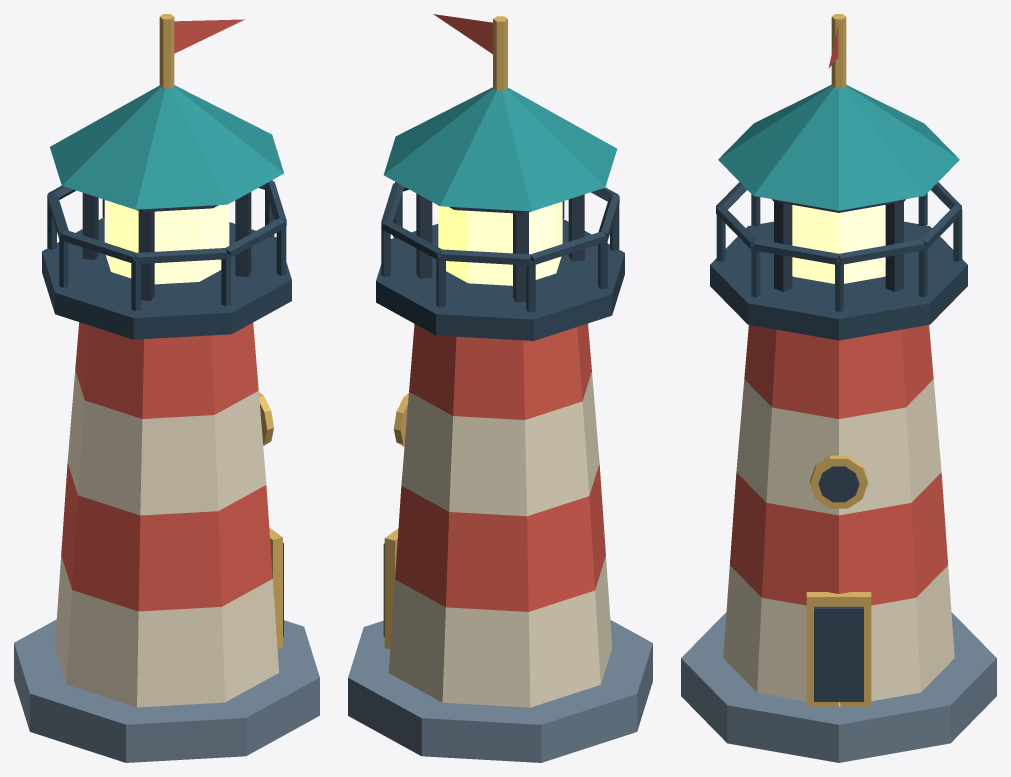
Rendered from lighthouse.glb.
The picture shows the model from 3 angles, left to right: view 1: azimuth 30°, elevation 25°; view 2: azimuth 150°, elevation 25°; view 3: azimuth 270°, elevation 25°; orthographic projection.
Visible parts, largest first — view 1: tower_white, tower_red, foundation, gallery, roof, lamp_glow, lamp_frame, door_trim; view 2: tower_white, tower_red, foundation, gallery, roof, lamp_glow, lamp_frame, door_trim; view 3: tower_red, tower_white, gallery, foundation, roof, door, lamp_glow, door_trim, lamp_frame.
Boxes of the visible parts, x1,y1,x2,y2 form: tower_white: (55, 370, 278, 707); tower_red: (61, 19, 272, 611); foundation: (14, 619, 319, 762); gallery: (42, 180, 291, 339); roof: (50, 85, 283, 209); lamp_glow: (104, 200, 229, 284); lamp_frame: (82, 192, 251, 300); door_trim: (159, 14, 282, 648); tower_white: (388, 372, 612, 707); tower_red: (395, 14, 605, 611); foundation: (348, 620, 652, 762); gallery: (376, 182, 624, 340); roof: (383, 87, 617, 211); lamp_glow: (438, 201, 562, 285); lamp_frame: (416, 193, 584, 302); door_trim: (384, 16, 507, 648); tower_red: (730, 25, 947, 605); tower_white: (723, 379, 954, 706); gallery: (710, 182, 967, 340); foundation: (681, 612, 996, 762); roof: (718, 85, 959, 210); door: (814, 466, 863, 701); lamp_glow: (792, 205, 885, 283); door_trim: (806, 14, 871, 706); lamp_frame: (772, 199, 905, 291).
Size of the model in its own units: 1.2 by 2.85 by 1.2.
